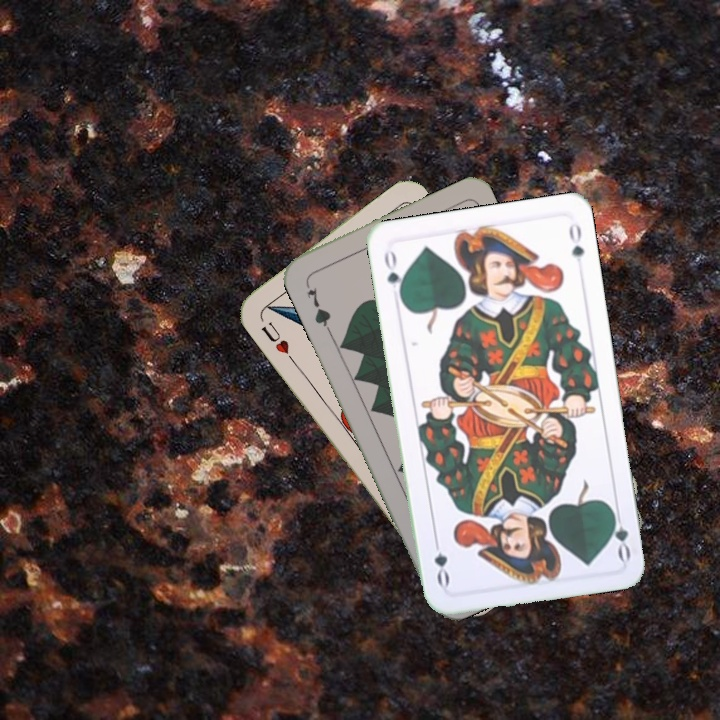G7: (301, 277, 334, 333)
GO: (606, 504, 633, 563), (380, 245, 406, 303)
HU: (257, 318, 296, 364)
